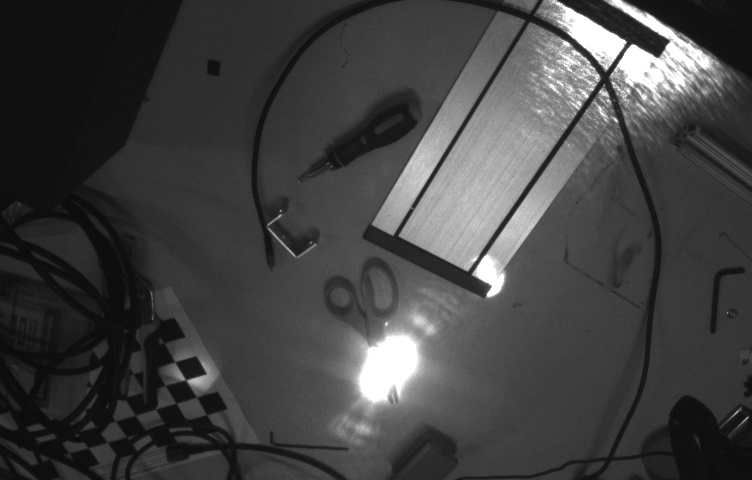Object robotic gripper finger assembly - Material metal - Pdfname Yy6dySnH33wN: (359, 339, 433, 401)
